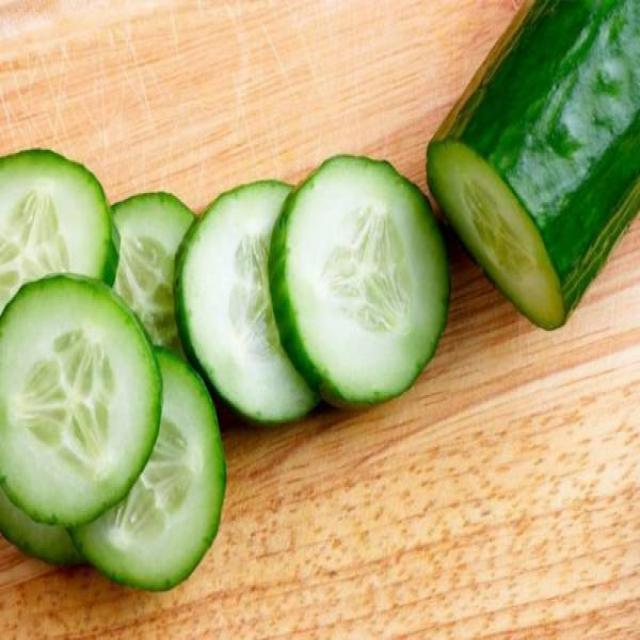cucumber: (424, 1, 640, 332), (278, 158, 452, 408), (1, 273, 157, 523), (177, 170, 317, 420), (83, 350, 219, 586), (1, 147, 121, 294), (113, 182, 187, 348)
